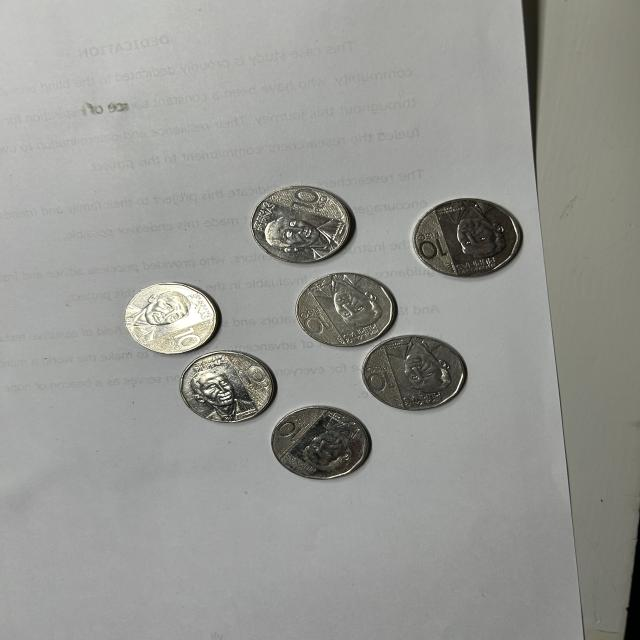10_New_Front: (230, 362, 278, 401), (364, 358, 405, 398), (290, 304, 333, 342), (163, 323, 201, 360), (289, 188, 330, 218), (417, 228, 445, 262), (276, 414, 305, 444)
